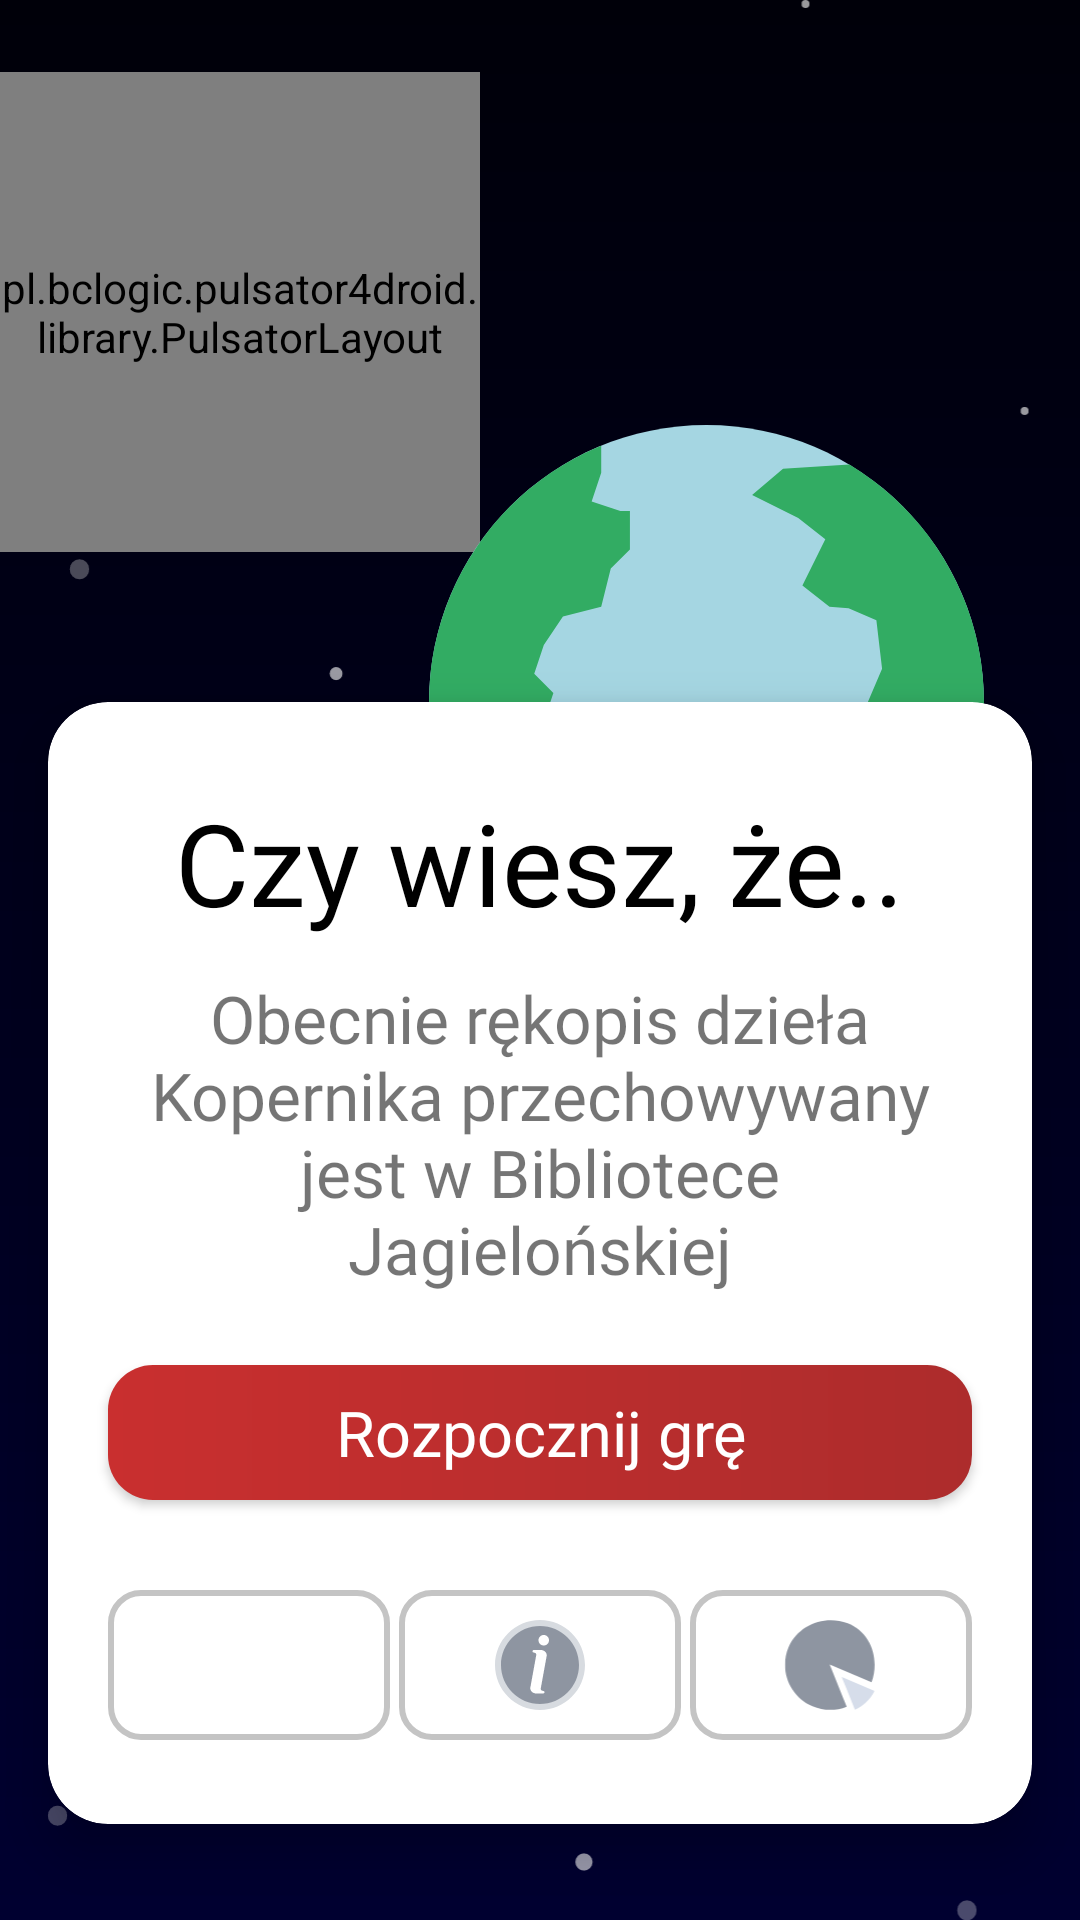

Icon bounding boxes for this 1080x1920 phone screenshot, format (x1, y1, x2, y2):
info: (399, 1590, 681, 1740)
statistics: (690, 1590, 972, 1740)
